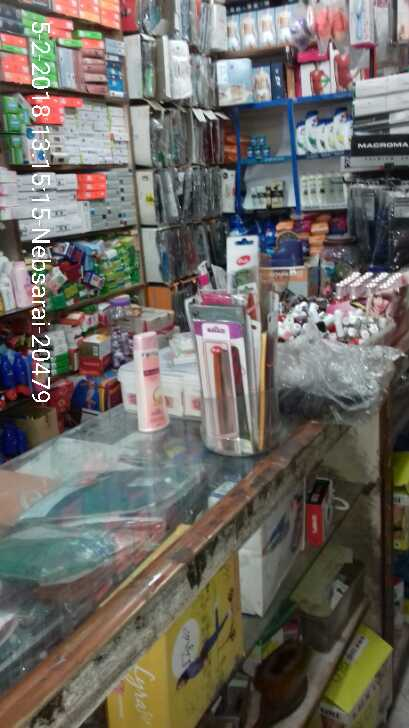vicks: (240, 132, 275, 162)
